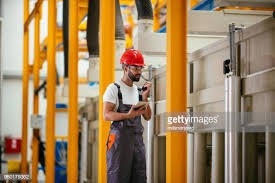helmet: (121, 47, 147, 68)
person with partial safety: (106, 45, 151, 175)
